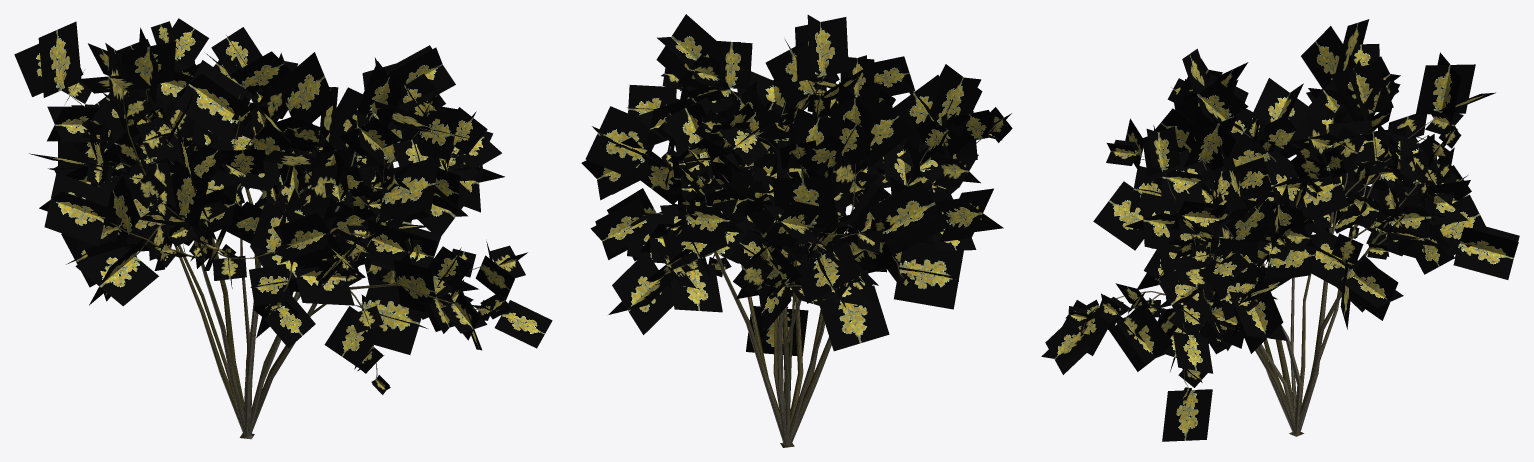
Rendered from bushB.glb.
3 renders of one model, left to right at view 1: azimuth 30°, elevation 25°; view 2: azimuth 150°, elevation 25°; view 3: azimuth 270°, elevation 25°, orthographic. The views are drawn at different scales.
Parts seen in each view (by area): view 1: bushB; view 2: bushB; view 3: bushB.
Boxes of the visible parts, x1,y1,x2,y2 form: bushB: (14, 18, 552, 439); bushB: (581, 14, 1012, 447); bushB: (1041, 19, 1519, 441).
Bounding box in the file's own units: 1.55 × 1.4 × 1.63.
Materials: 2 (2 with a texture image).
